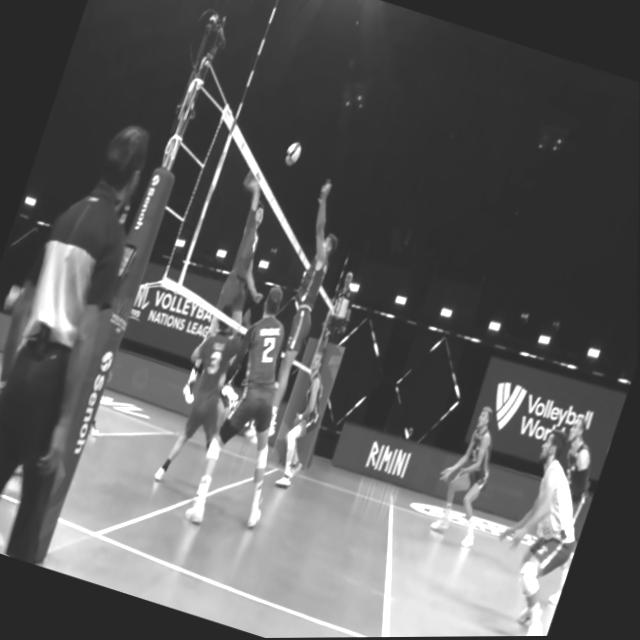player: (182, 276, 332, 535), (240, 180, 359, 448), (472, 421, 613, 637), (175, 168, 301, 406), (153, 297, 263, 498), (423, 401, 516, 552), (539, 411, 619, 538), (271, 349, 340, 490)
